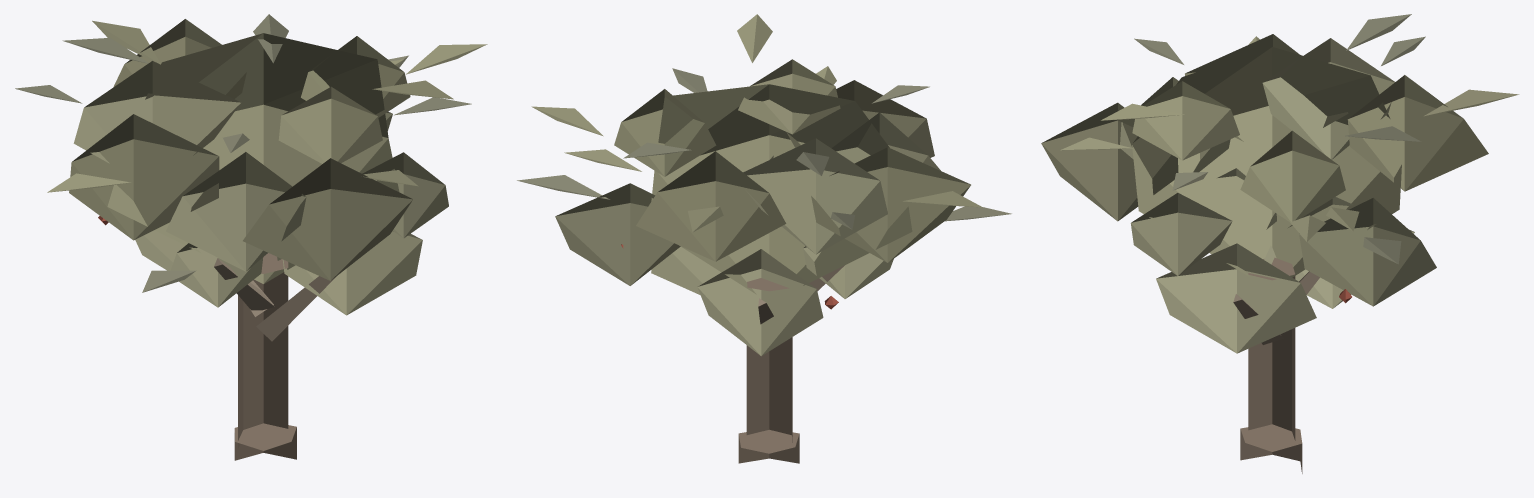
The model's file is shu.gaoshan__winter.glb.
3 views of the same model, side by side, from view 1: azimuth 30°, elevation 25°; view 2: azimuth 150°, elevation 25°; view 3: azimuth 270°, elevation 25° (orthographic). The views are drawn at different scales.
Visible parts, largest first — view 1: shu.gaoshan__winter; view 2: shu.gaoshan__winter; view 3: shu.gaoshan__winter.
Boxes of the visible parts, box(x1,y1,x2,y2) form: shu.gaoshan__winter: box(15, 14, 487, 460); shu.gaoshan__winter: box(517, 14, 1011, 463); shu.gaoshan__winter: box(1041, 14, 1519, 473).
Bounding box in the file's own units: 15.44 × 13.09 × 14.14.
